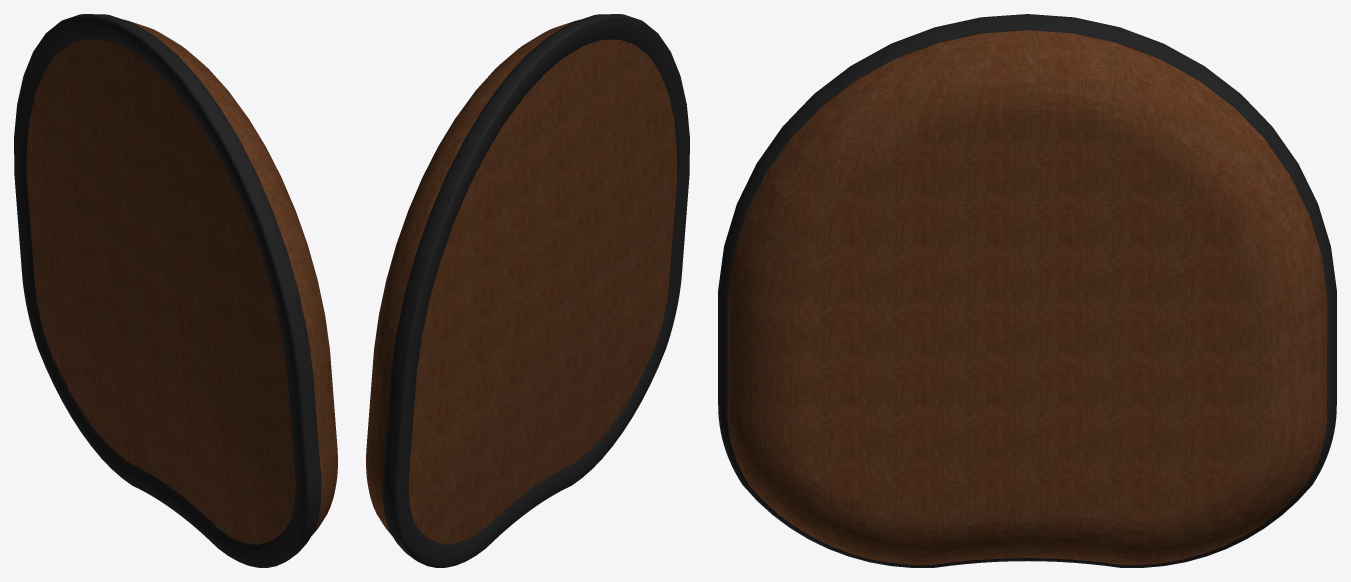
The model's file is backseat.obj.
The picture shows the model from 3 angles, left to right: view 1: azimuth 30°, elevation 25°; view 2: azimuth 150°, elevation 25°; view 3: azimuth 270°, elevation 25°; orthographic projection. The views are drawn at different scales.
Parts seen in each view (by area): view 1: backseat_mesh2_mesh2-geometry; view 2: backseat_mesh2_mesh2-geometry; view 3: backseat_mesh2_mesh2-geometry.
Part boxes in pixels (x1,y1,x2,y2): backseat_mesh2_mesh2-geometry: (14, 14, 337, 567); backseat_mesh2_mesh2-geometry: (366, 14, 689, 567); backseat_mesh2_mesh2-geometry: (718, 14, 1336, 567).
Bounding box in the file's own units: 0.0665 × 0.3367 × 0.3543.
